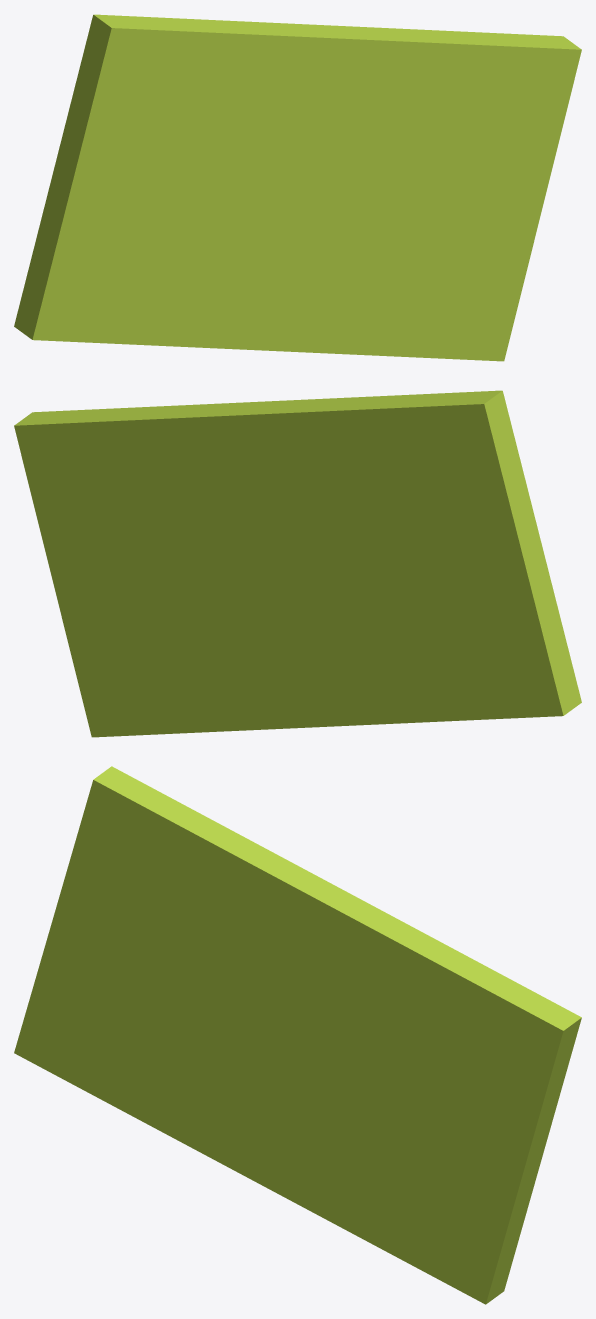
3 views of the same model, one above another, from view 1: azimuth 30°, elevation 25°; view 2: azimuth 150°, elevation 25°; view 3: azimuth 330°, elevation 25° (orthographic).
Visible parts, largest first — view 1: osm-way27917482-F2; view 2: osm-way27917482-F2; view 3: osm-way27917482-F2.
Part boxes in pixels (<box>): osm-way27917482-F2: <box>14,14,581,361</box>; osm-way27917482-F2: <box>14,390,581,737</box>; osm-way27917482-F2: <box>14,766,581,1304</box>.
Size of the model in its own units: 2.58 by 1.92 by 0.15.
